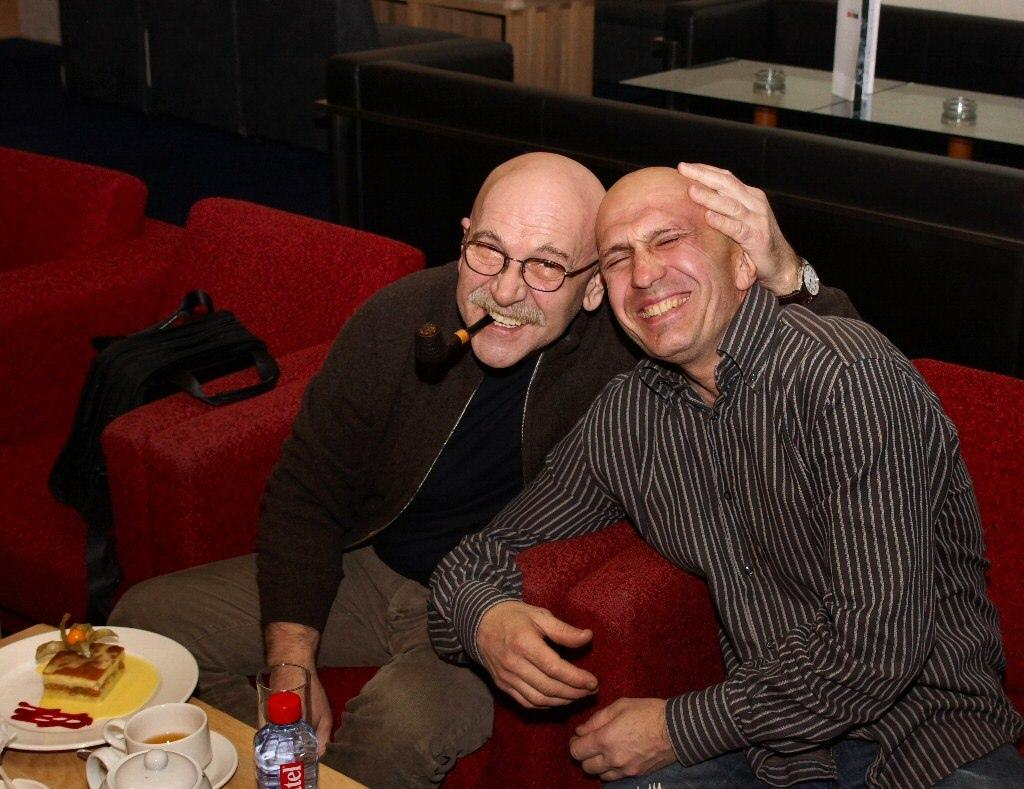trubka: (413, 313, 496, 369)
